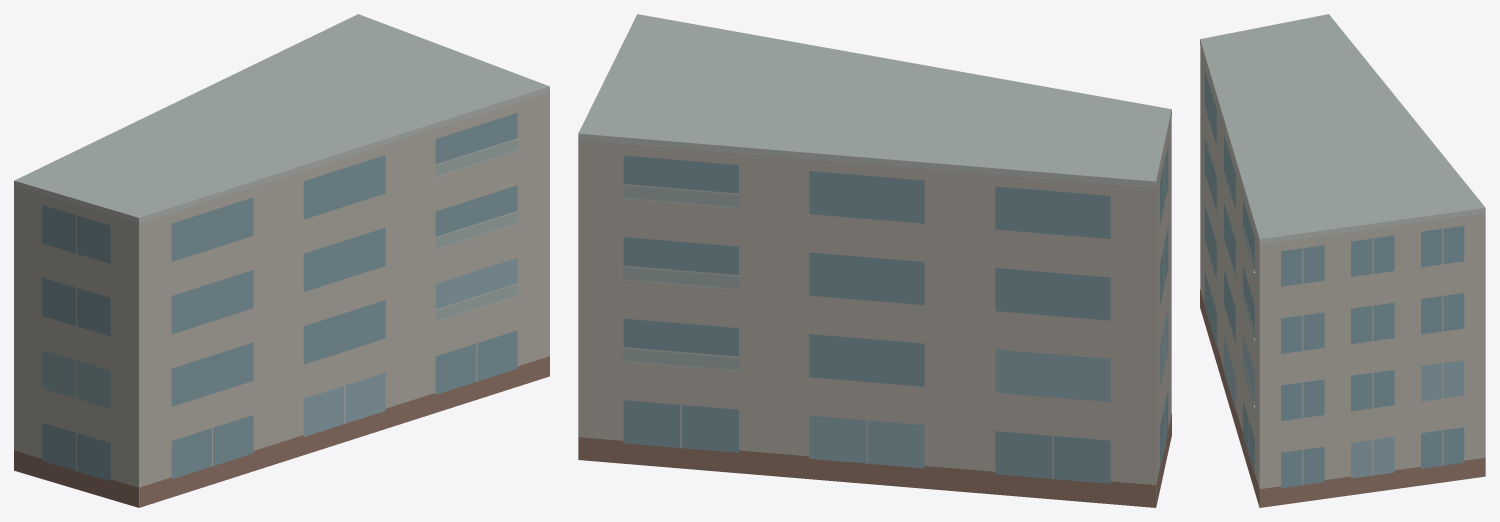
File: residential-17fa0087-29e9-4178-883a-fb52ad17aa2f.glb
3 views of the same model, side by side, from view 1: azimuth 30°, elevation 25°; view 2: azimuth 150°, elevation 25°; view 3: azimuth 270°, elevation 25° (orthographic). The views are drawn at different scales.
Parts seen in each view (by area): view 1: residential-17fa0087-29e9-4178-883a-fb52ad17aa2f.tmp; view 2: residential-17fa0087-29e9-4178-883a-fb52ad17aa2f.tmp; view 3: residential-17fa0087-29e9-4178-883a-fb52ad17aa2f.tmp.
Part boxes in pixels (x1=…): residential-17fa0087-29e9-4178-883a-fb52ad17aa2f.tmp: x1=14, y1=14, x2=549, y2=507; residential-17fa0087-29e9-4178-883a-fb52ad17aa2f.tmp: x1=578, y1=14, x2=1171, y2=507; residential-17fa0087-29e9-4178-883a-fb52ad17aa2f.tmp: x1=1200, y1=14, x2=1485, y2=507.
Size of the model in its own units: 21.96 by 12.2 by 11.77.
